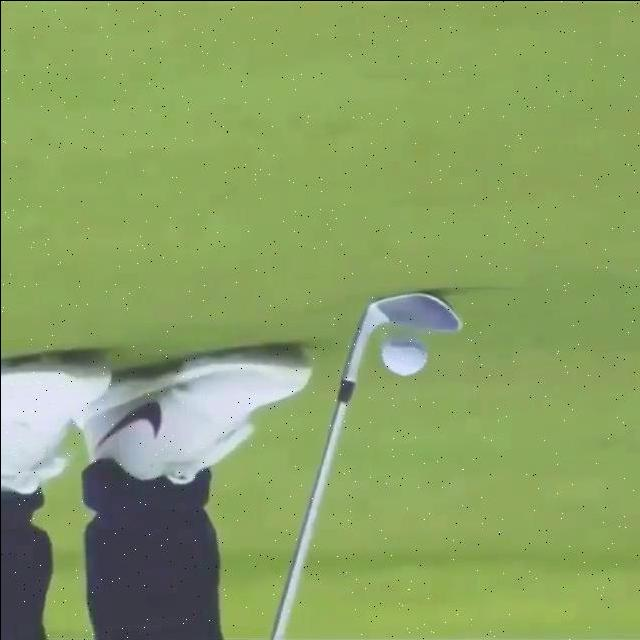golf ball: (374, 338, 431, 377)
golf club-handle: (273, 287, 461, 640)
golf club-head: (368, 289, 457, 330)
